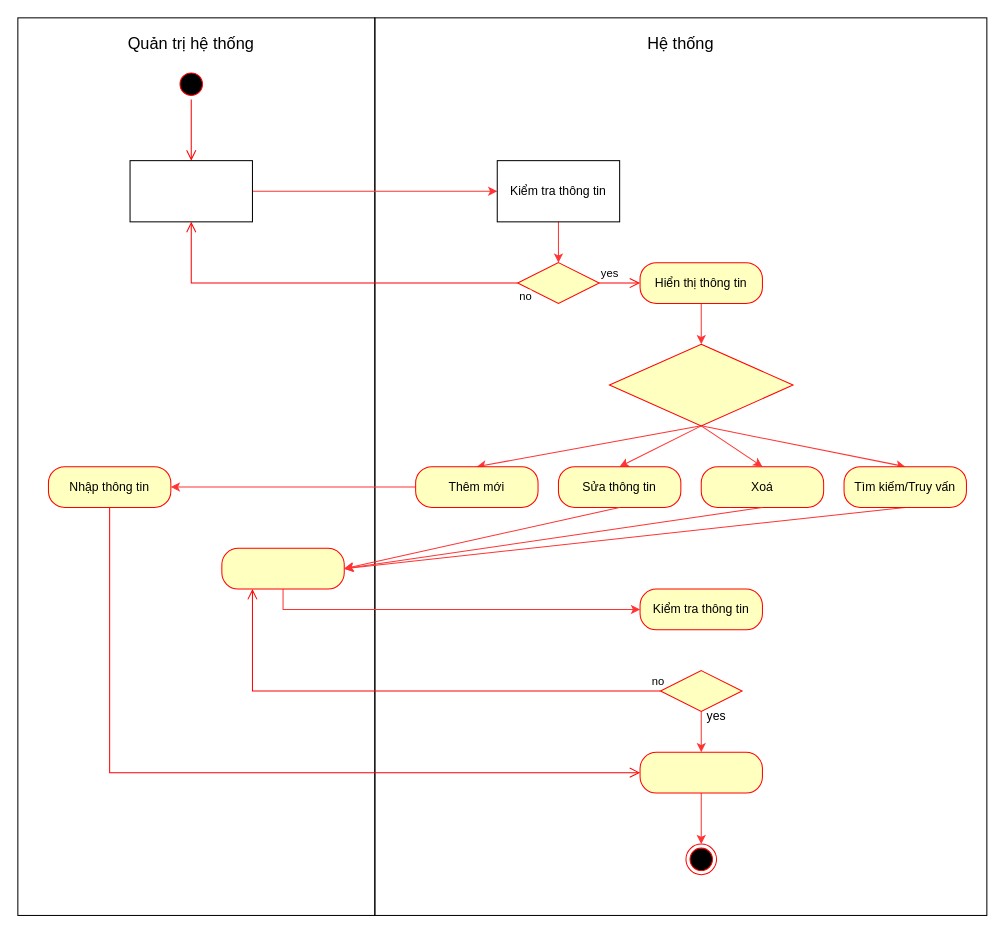
Image size: 1005x933. Some labels were removed from this diagram. Here are the shapes that lost their labels. From the top down, the box of each, then its label:
(129, 160, 252, 222): Quản lý thông tin người dùng
(608, 343, 793, 426): Yêu cầu chọn chức năng
(221, 547, 344, 589): Nhập mã người dùng
(639, 751, 762, 793): Cập nhật trạng thái
